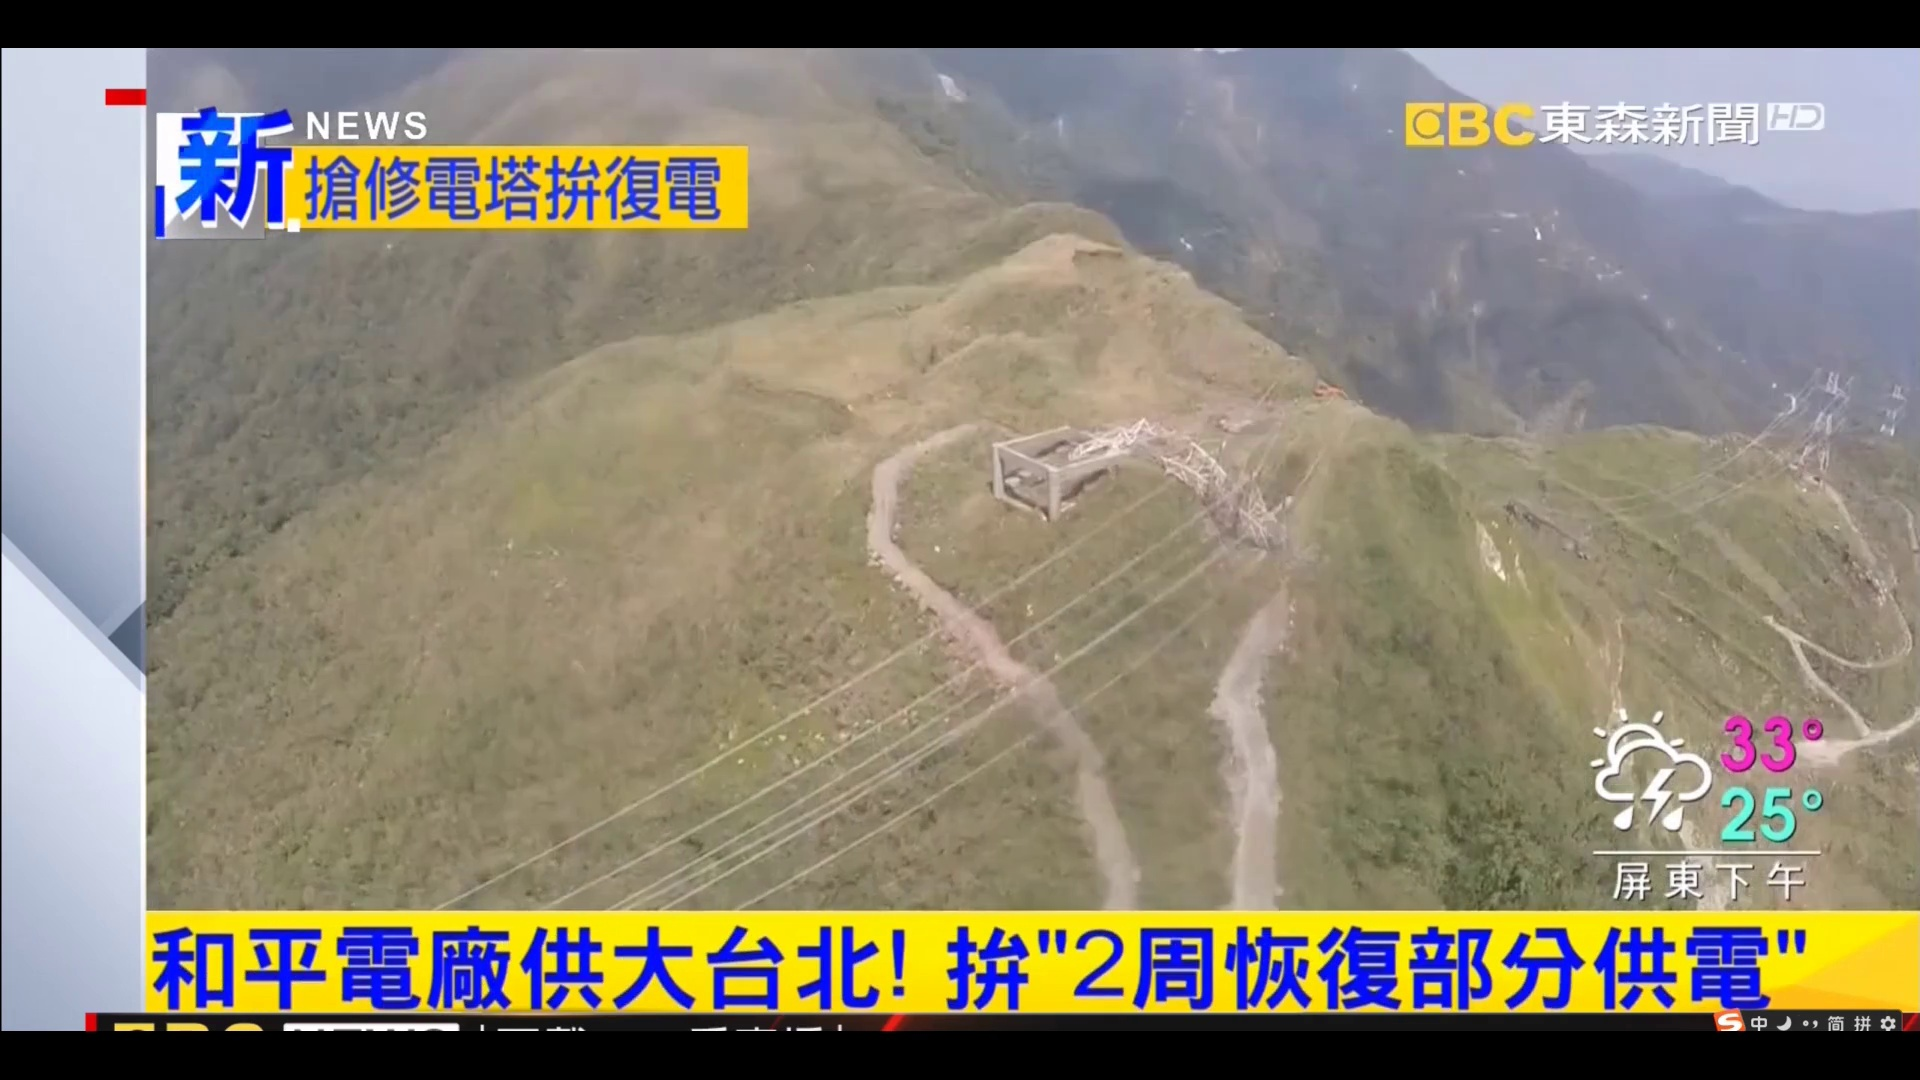tower_down: (1112, 405, 1308, 568)
